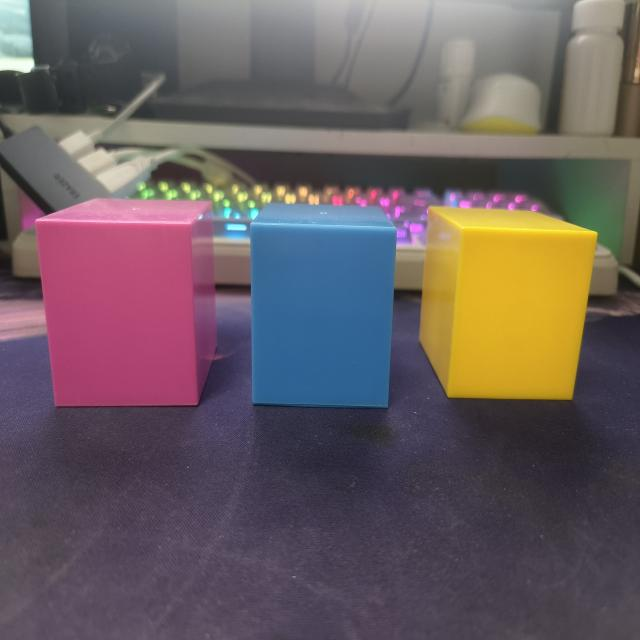blue: (247, 206, 398, 411)
pink: (34, 199, 212, 410)
yellow: (418, 206, 598, 402)
